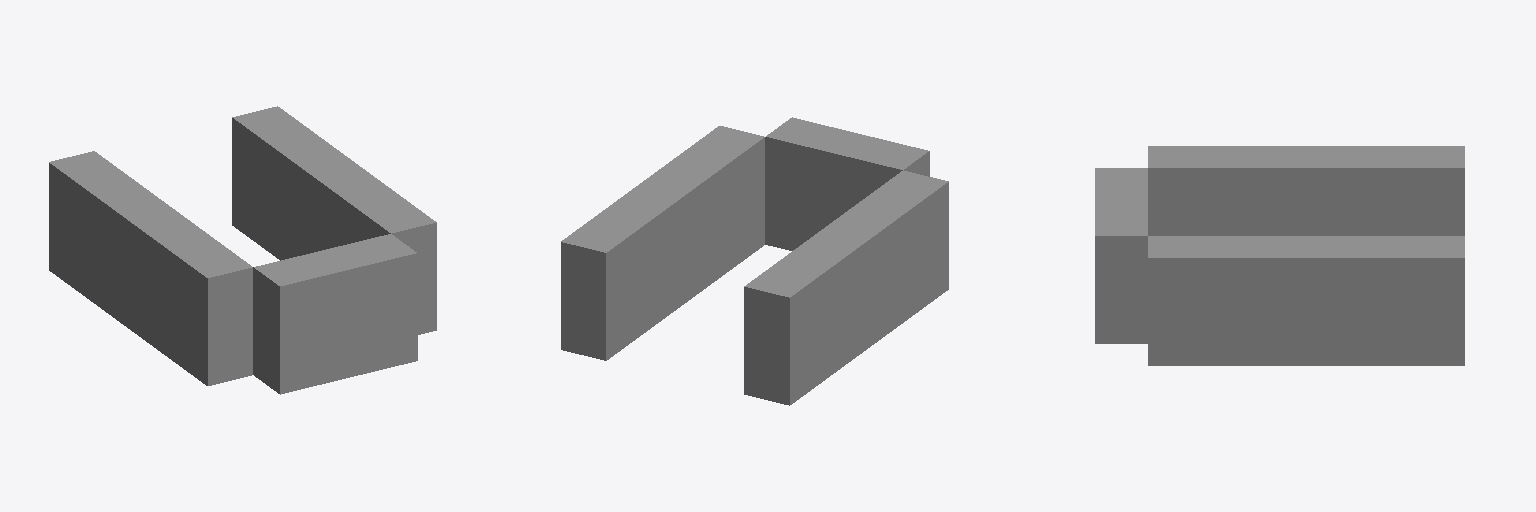
3 views of the same model, side by side, from view 1: azimuth 30°, elevation 25°; view 2: azimuth 150°, elevation 25°; view 3: azimuth 270°, elevation 25° (orthographic).
Parts seen in each view (by area): view 1: U_CUABC.021; view 2: U_CUABC.021; view 3: U_CUABC.021.
Boxes of the visible parts, <box> form: U_CUABC.021: <box>49,106,436,394</box>; U_CUABC.021: <box>561,117,948,405</box>; U_CUABC.021: <box>1095,146,1464,365</box>.
Bounding box in the file's own units: 0.5556 × 0.25 × 0.7778.